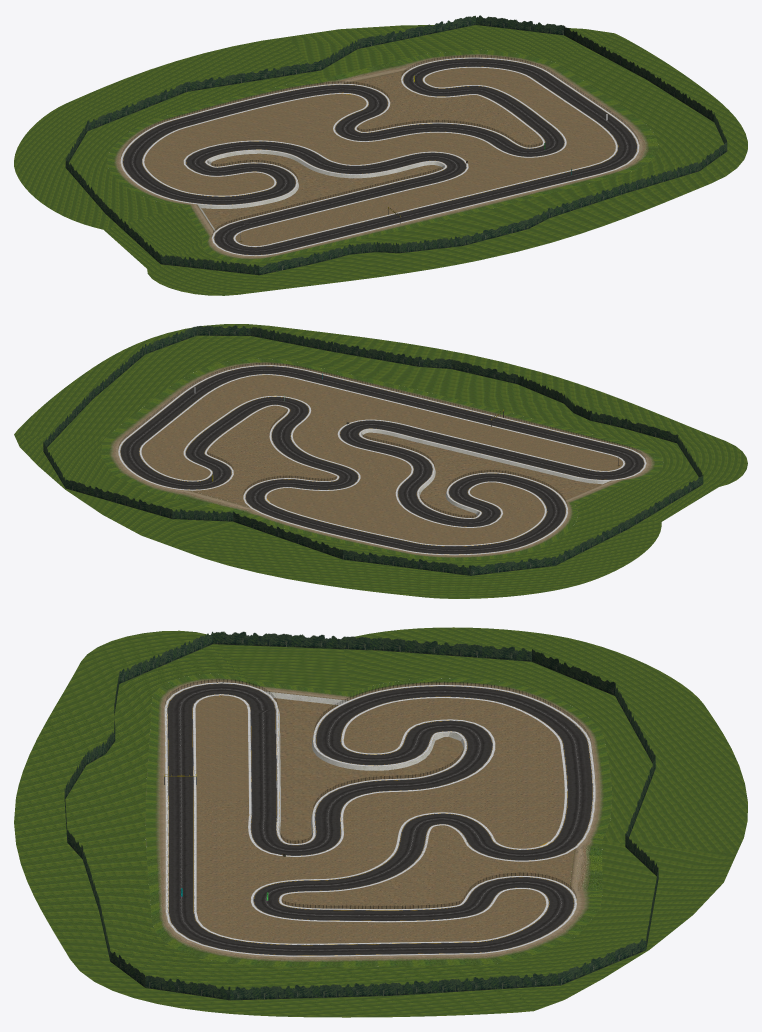
Rendered from drift tracks.glb.
The picture shows the model from 3 angles, top to bottom: view 1: azimuth 30°, elevation 25°; view 2: azimuth 150°, elevation 25°; view 3: azimuth 270°, elevation 25°; orthographic projection. The views are drawn at different scales.
Parts seen in each view (by area): view 1: mesh; view 2: mesh; view 3: mesh.
Part boxes in pixels (box(x1,y1,x2,y2)): mesh: box(14, 15, 747, 295); mesh: box(14, 324, 747, 598); mesh: box(14, 627, 747, 1017).
Size of what is drawn, in the model's own units: 431 by 10.59 by 343.
Materials: 13 (12 with a texture image).
